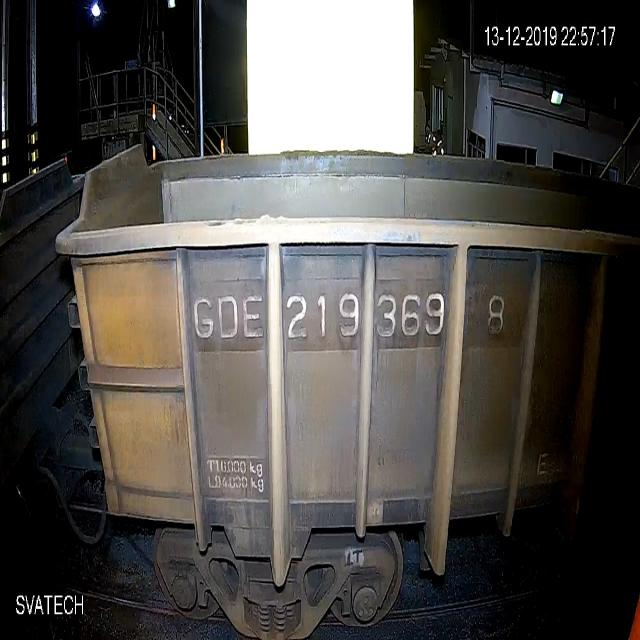gondola: (47, 126, 640, 640)
